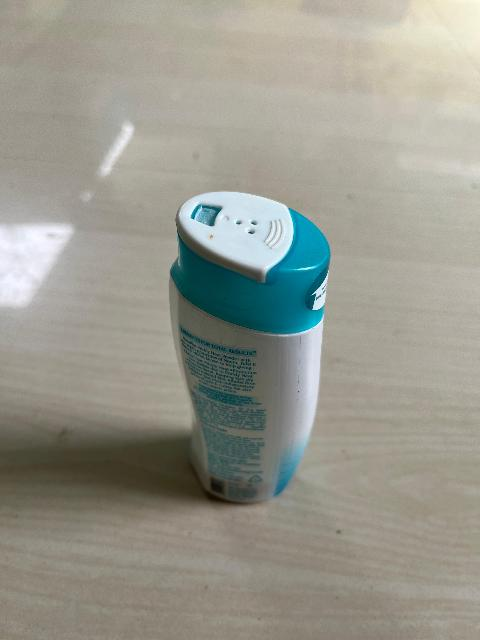boroplus: (167, 192, 344, 517)
